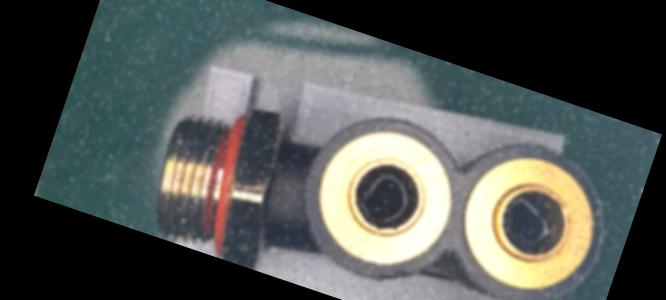bump: (369, 256, 419, 291)
off-centered: (348, 165, 419, 231), (491, 192, 563, 255)
white mark: (276, 170, 294, 186)
